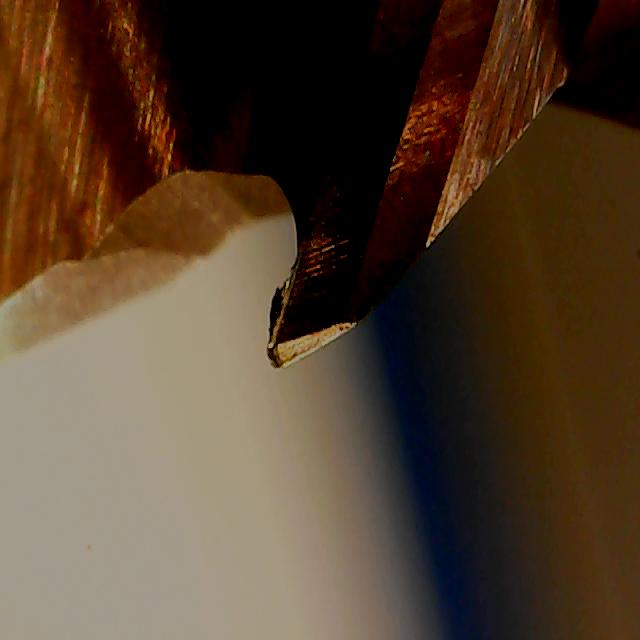Tool-wear-class-1: (260, 134, 408, 384)
